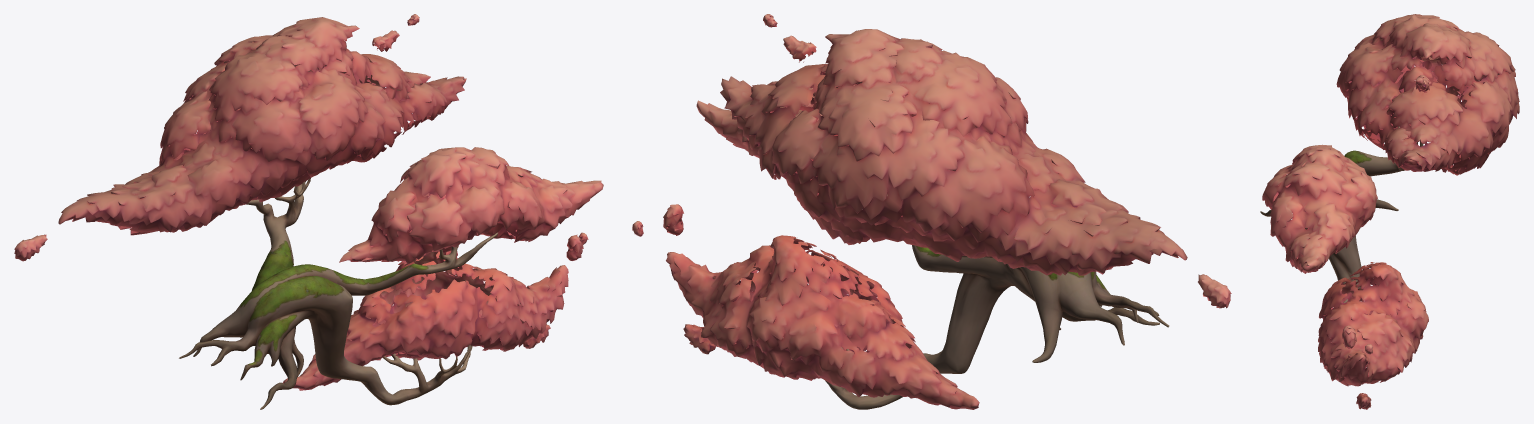
File: sky_tree_01a.glb
The picture shows the model from 3 angles, left to right: view 1: azimuth 30°, elevation 25°; view 2: azimuth 150°, elevation 25°; view 3: azimuth 270°, elevation 25°; orthographic projection. The views are drawn at different scales.
Parts seen in each view (by area): view 1: tree_01a; view 2: tree_01a; view 3: tree_01a.
Boxes of the visible parts, x1,y1,x2,y2 form: tree_01a: (14, 14, 603, 409); tree_01a: (632, 14, 1231, 409); tree_01a: (1260, 14, 1519, 409).
Size of the model in its own units: 61.24 by 39.23 by 28.68.
Materials: 2 (2 with a texture image).
